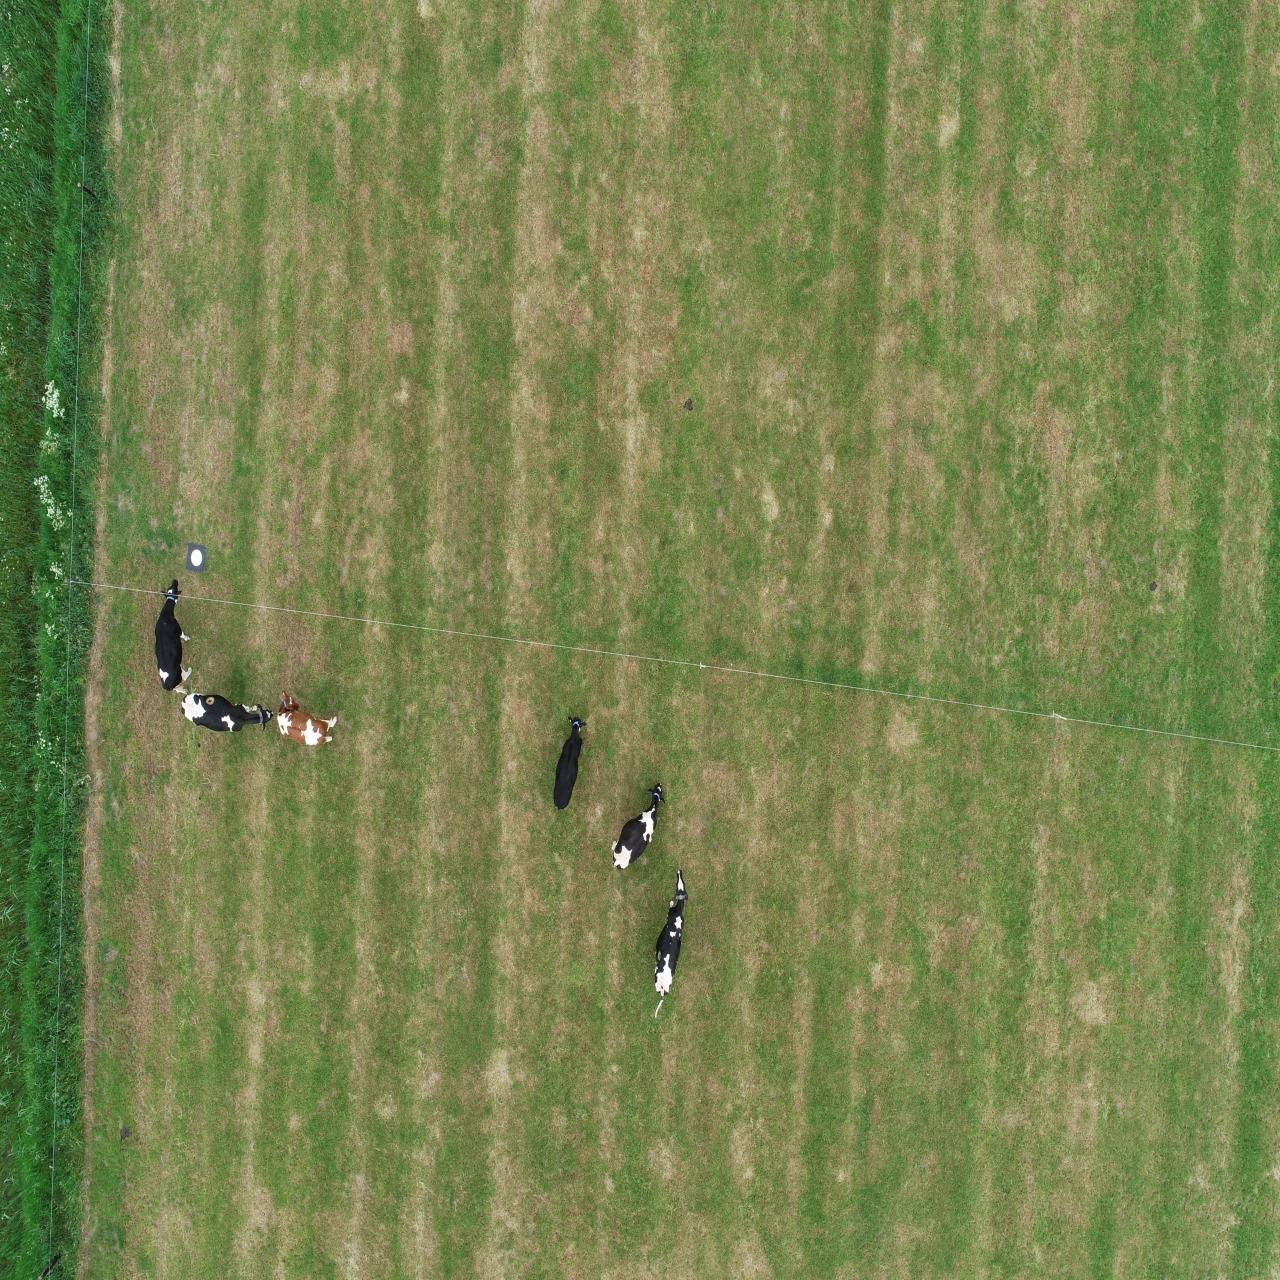cow: (578, 266, 601, 346), (463, 342, 490, 406)
